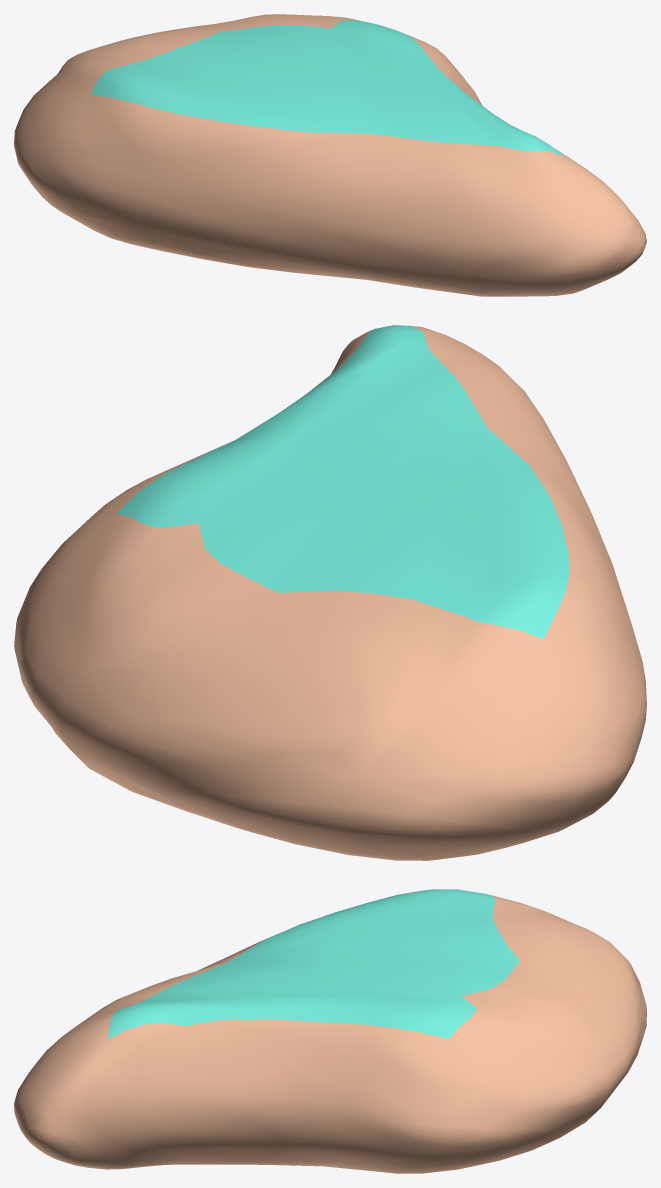
The model's file is background-rock-largea.glb.
3 renders of one model, top to bottom at view 1: azimuth 30°, elevation 25°; view 2: azimuth 150°, elevation 25°; view 3: azimuth 270°, elevation 25°, orthographic. The views are drawn at different scales.
Parts seen in each view (by area): view 1: rock_largeA; view 2: rock_largeA; view 3: rock_largeA.
Boxes of the visible parts, x1=… form: rock_largeA: x1=14, y1=14, x2=646, y2=296; rock_largeA: x1=14, y1=325, x2=646, y2=860; rock_largeA: x1=14, y1=889, x2=646, y2=1173.
Bounding box in the file's own units: 0.7273 × 0.2581 × 0.9692.
